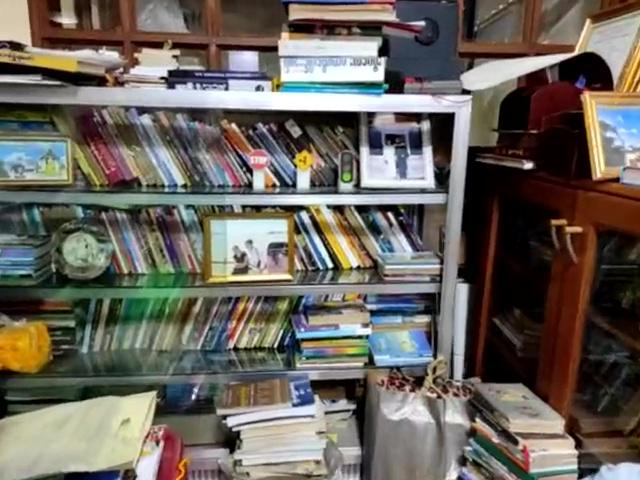Green Traffic Light: (338, 152, 356, 182)
Stop Sign: (244, 149, 273, 173)
Straight Or Left Sign: (294, 150, 315, 172)
